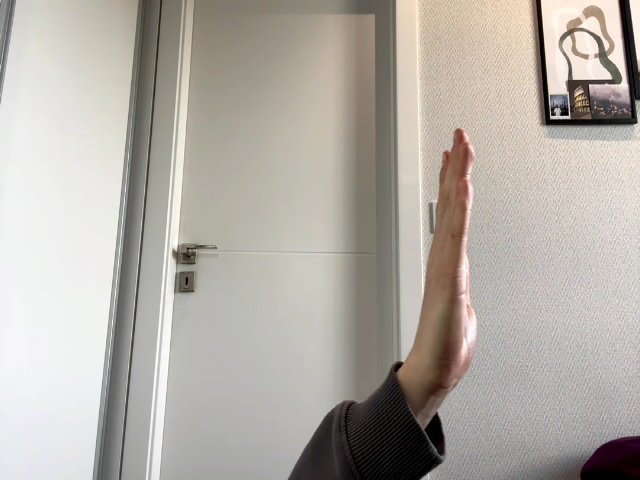SZ: (413, 129, 477, 394)
